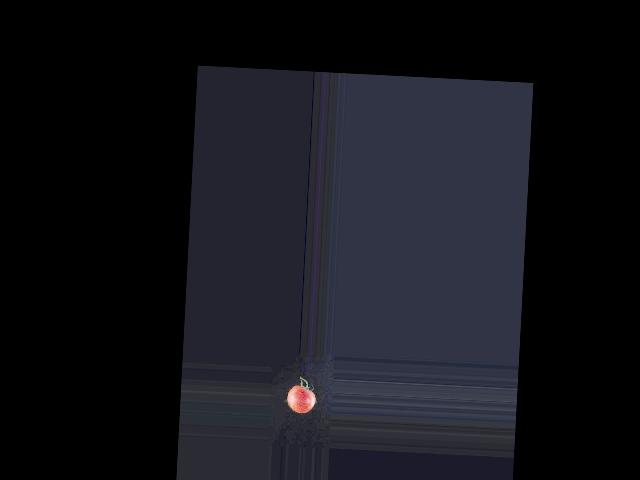tomato: (286, 384, 315, 413)
